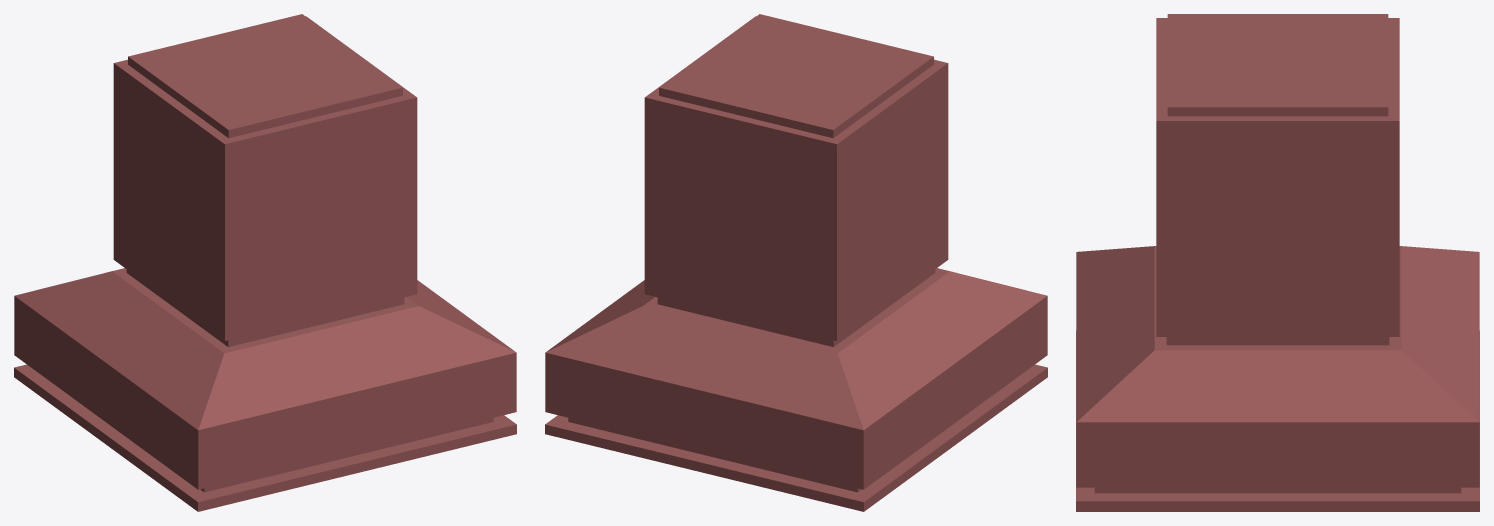
The model's file is colon3_bot.fbx.
The picture shows the model from 3 angles, left to right: view 1: azimuth 30°, elevation 25°; view 2: azimuth 150°, elevation 25°; view 3: azimuth 270°, elevation 25°; orthographic projection. The views are drawn at different scales.
Parts seen in each view (by area): view 1: colon3_bot; view 2: colon3_bot; view 3: colon3_bot.
Part boxes in pixels (x1,y1,x2,y2): colon3_bot: [14, 14, 516, 511]; colon3_bot: [545, 14, 1047, 511]; colon3_bot: [1076, 14, 1479, 511].
Bounding box in the file's own units: 1 × 1 × 1.
